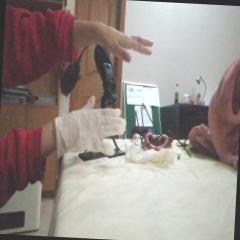gloved: (56, 96, 128, 155)
not-gloved: (78, 20, 154, 63)
